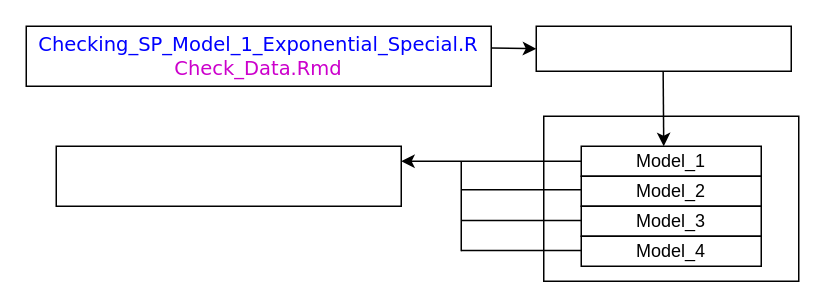
Image size: 825x308. Some labels were removed from this diagram. The centre of each missing label's shape, as x and y in pixels:
"Generate_Big_Data" goes at (x=663, y=48).
"No_Correlated_Covariate.RData" goes at (x=228, y=175).
